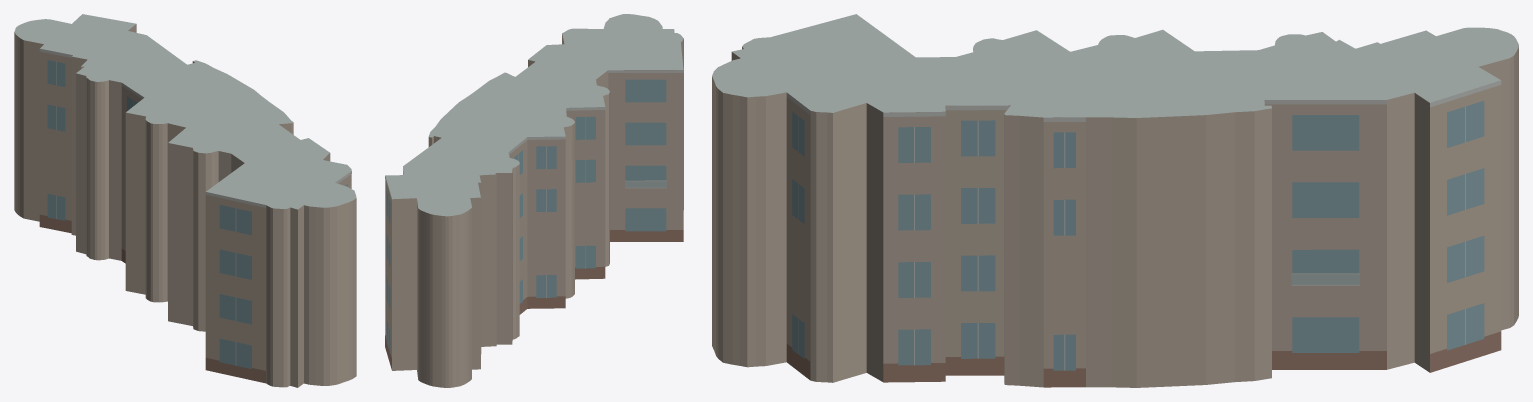
Rendered from survey-upis-32472586.glb.
3 views of the same model, side by side, from view 1: azimuth 30°, elevation 25°; view 2: azimuth 150°, elevation 25°; view 3: azimuth 270°, elevation 25° (orthographic). The views are drawn at different scales.
Parts seen in each view (by area): view 1: survey-upis-32472586.tmp; view 2: survey-upis-32472586.tmp; view 3: survey-upis-32472586.tmp.
Boxes of the visible parts, x1=… form: survey-upis-32472586.tmp: x1=14, y1=14, x2=356, y2=387; survey-upis-32472586.tmp: x1=385, y1=14, x2=683, y2=387; survey-upis-32472586.tmp: x1=712, y1=14, x2=1518, y2=387.
Bounding box in the file's own units: 11.98 × 14.49 × 39.26.
